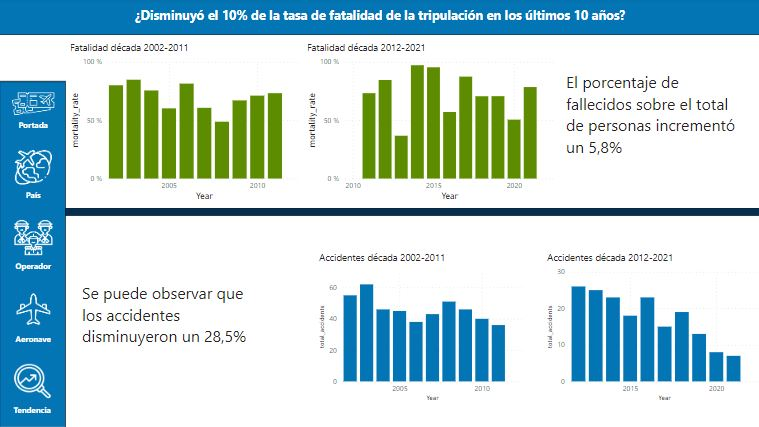

What the dashboard file says about the page in this screenshot:
{"tool":"powerbi","page":{"name":"Tendencia 2","canvas":[1280,720],"ordinal":5},"visuals":[{"type":"shape","box":[0,0,1280,61.8],"z":0},{"type":"image","box":[16.4,366.8,80.9,69.3],"z":0,"group":"g3"},{"type":"clusteredColumnChart","title":"Fatalidad década 2002-2011","fields":{"Y":["metrics.mortality_rate"],"Category":["calendar.Year"]},"box":[113.4,71.5,397.6,273.8],"z":1000},{"type":"textbox","box":[16.4,436.2,80.9,28.8],"z":1000,"group":"g3"},{"type":"clusteredColumnChart","title":"Fatalidad década 2012-2021","fields":{"Y":["metrics.mortality_rate"],"Category":["calendar.Year"]},"box":[511,71.5,425.5,273.8],"z":2000},{"type":"image","box":[16.4,139.1,80.9,76.2],"z":2001,"group":"g1"},{"type":"image","box":[16.4,250.7,80.9,67.7],"z":2002,"group":"g2"},{"type":"image","box":[16.4,484.8,80.9,74.1],"z":2003,"group":"g4"},{"type":"image","box":[15.5,607.3,80.9,69.6],"z":2005,"group":"g5"},{"type":"textbox","box":[16.4,318.5,80.9,28.5],"z":2007,"group":"g2"},{"type":"textbox","box":[16.4,559,80.9,28.6],"z":2009,"group":"g4"},{"type":"textbox","box":[15.5,676.9,80.9,28.5],"z":2010,"group":"g5"},{"type":"textbox","box":[16.4,199.8,80.9,31.3],"z":2011,"group":"g1"},{"type":"clusteredColumnChart","title":"Accidentes década 2012-2021","fields":{"Y":["metrics.total_accidents"],"Category":["calendar.Year"]},"box":[914.2,424.8,365.8,257.8],"z":3000},{"type":"clusteredColumnChart","title":"Accidentes década 2002-2011","fields":{"Y":["metrics.total_accidents"],"Category":["calendar.Year"]},"box":[531.4,424.8,352.8,257.8],"z":4000},{"type":"textbox","box":[134.3,470.8,313.9,184.9],"z":5000},{"type":"textbox","box":[946.9,116.8,298.2,184.9],"z":6000},{"type":"textbox","box":[134.3,8.7,1009.7,43.6],"z":7000},{"type":"shape","box":[0,352.8,1280.2,13],"z":8000},{"type":"shape","box":[0,139,112,581],"z":8001},{"type":"group","id":"g1","title":"Group 1","box":[16.4,139.1,80.9,91.8],"z":8002},{"type":"group","id":"g2","title":"Group 2","box":[16.4,250.7,80.9,96.4],"z":8003},{"type":"group","id":"g3","title":"Group 3","box":[16.4,366.8,80.9,98.2],"z":8004},{"type":"group","id":"g4","title":"Group 4","box":[16.4,484.8,80.9,102.7],"z":8005},{"type":"group","id":"g5","title":"Group 5","box":[15.5,607.3,80.9,98.2],"z":8006}]}

Visuals, with their boxes on the page's 1280x720 design canvas (x1, y1, x2, y2). These are canvas units, not pixel positions in the 759x427 screenshot, which may show the page scaled, cropped or inside an application window:
shape: BBox(0, 0, 1280, 62)
image: BBox(16, 367, 97, 436)
"Fatalidad década 2002-2011" clusteredColumnChart: BBox(113, 72, 511, 345)
textbox: BBox(16, 436, 97, 465)
"Fatalidad década 2012-2021" clusteredColumnChart: BBox(511, 72, 936, 345)
image: BBox(16, 139, 97, 215)
image: BBox(16, 251, 97, 318)
image: BBox(16, 485, 97, 559)
image: BBox(16, 607, 96, 677)
textbox: BBox(16, 318, 97, 347)
textbox: BBox(16, 559, 97, 588)
textbox: BBox(16, 677, 96, 705)
textbox: BBox(16, 200, 97, 231)
"Accidentes década 2012-2021" clusteredColumnChart: BBox(914, 425, 1280, 683)
"Accidentes década 2002-2011" clusteredColumnChart: BBox(531, 425, 884, 683)
textbox: BBox(134, 471, 448, 656)
textbox: BBox(947, 117, 1245, 302)
textbox: BBox(134, 9, 1144, 52)
shape: BBox(0, 353, 1280, 366)
shape: BBox(0, 139, 112, 720)
"Group 1" group: BBox(16, 139, 97, 231)
"Group 2" group: BBox(16, 251, 97, 347)
"Group 3" group: BBox(16, 367, 97, 465)
"Group 4" group: BBox(16, 485, 97, 588)
"Group 5" group: BBox(16, 607, 96, 706)
